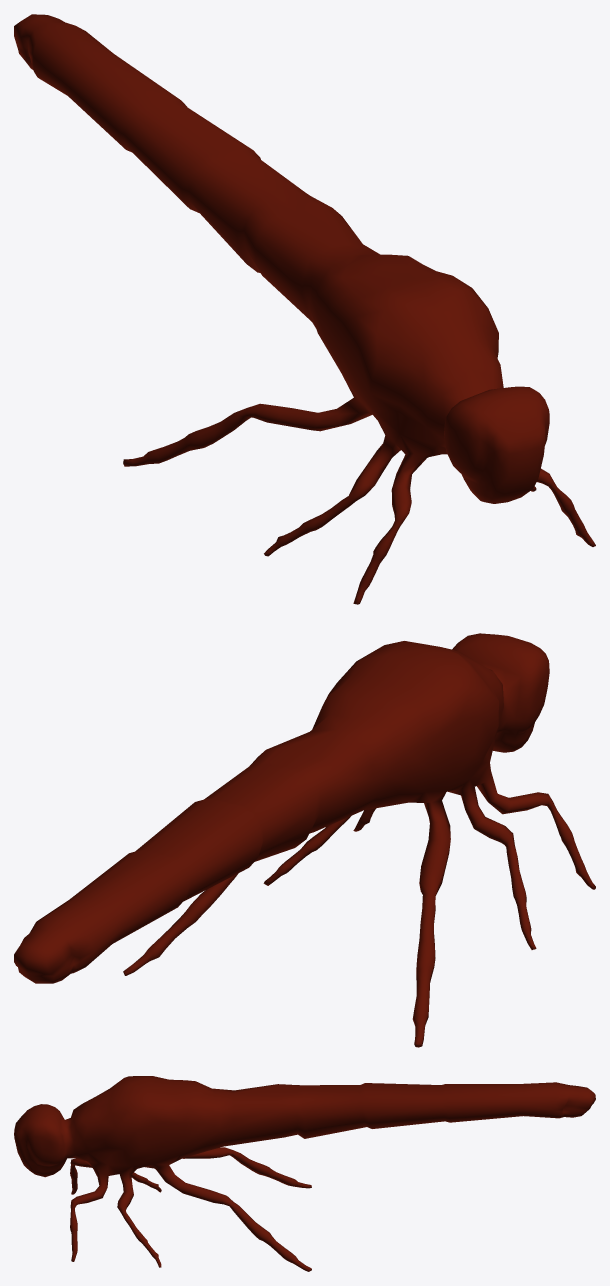
Rendered from bFlyBody.obj.
3 views of the same model, one above another, from view 1: azimuth 30°, elevation 25°; view 2: azimuth 150°, elevation 25°; view 3: azimuth 270°, elevation 25° (orthographic). The views are drawn at different scales.
Parts seen in each view (by area): view 1: mon_body; view 2: mon_body; view 3: mon_body.
Part boxes in pixels (left/top/right/bottom): mon_body: left=14, top=14, right=595, bottom=604; mon_body: left=14, top=633, right=595, bottom=1047; mon_body: left=14, top=1076, right=595, bottom=1271.
Bounding box in the file's own units: 0.7735 × 0.62 × 2.24.
